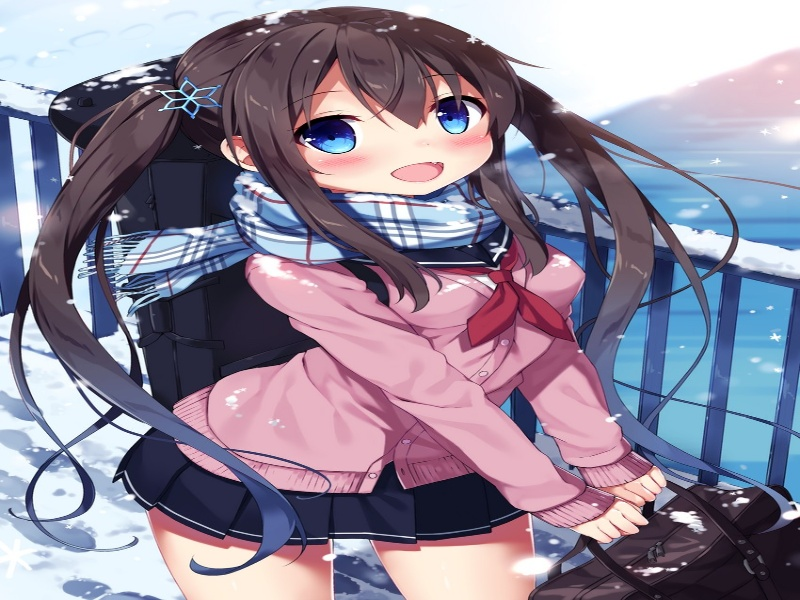person: (250, 38, 516, 213)
